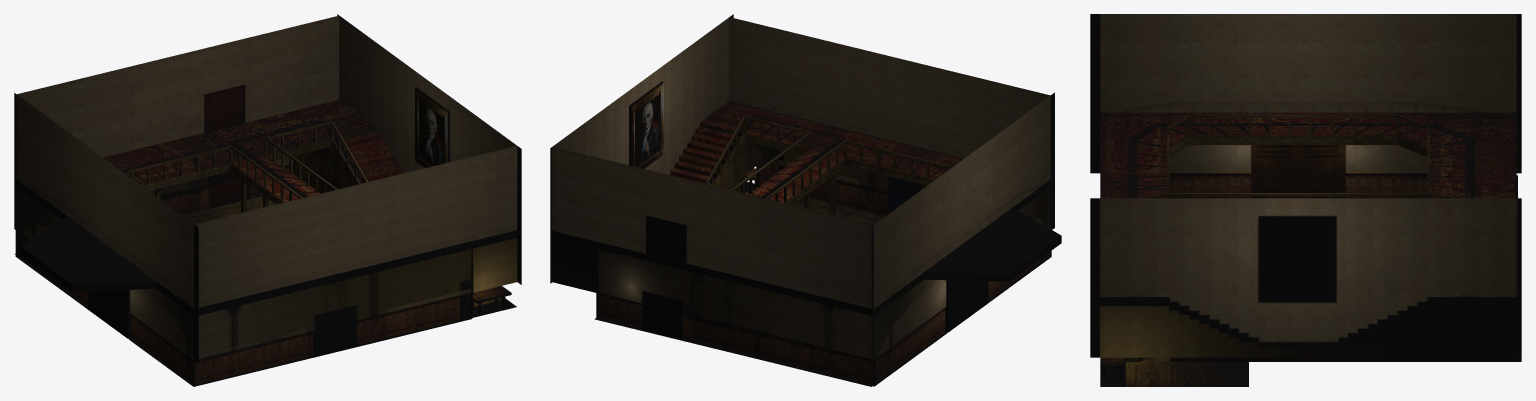
3 views of the same model, side by side, from view 1: azimuth 30°, elevation 25°; view 2: azimuth 150°, elevation 25°; view 3: azimuth 270°, elevation 25° (orthographic). The views are drawn at different scales.
Parts seen in each view (by area): view 1: Hall_Cube.001; view 2: Hall_Cube.001; view 3: Hall_Cube.001.
Boxes of the visible parts, x1,y1,x2,y2 form: Hall_Cube.001: (14,14,521,386); Hall_Cube.001: (550,14,1061,386); Hall_Cube.001: (1090,14,1521,386).
Bounding box in the file's own units: 53 × 21.13 × 43.5.
Materials: 16 (16 with a texture image).
